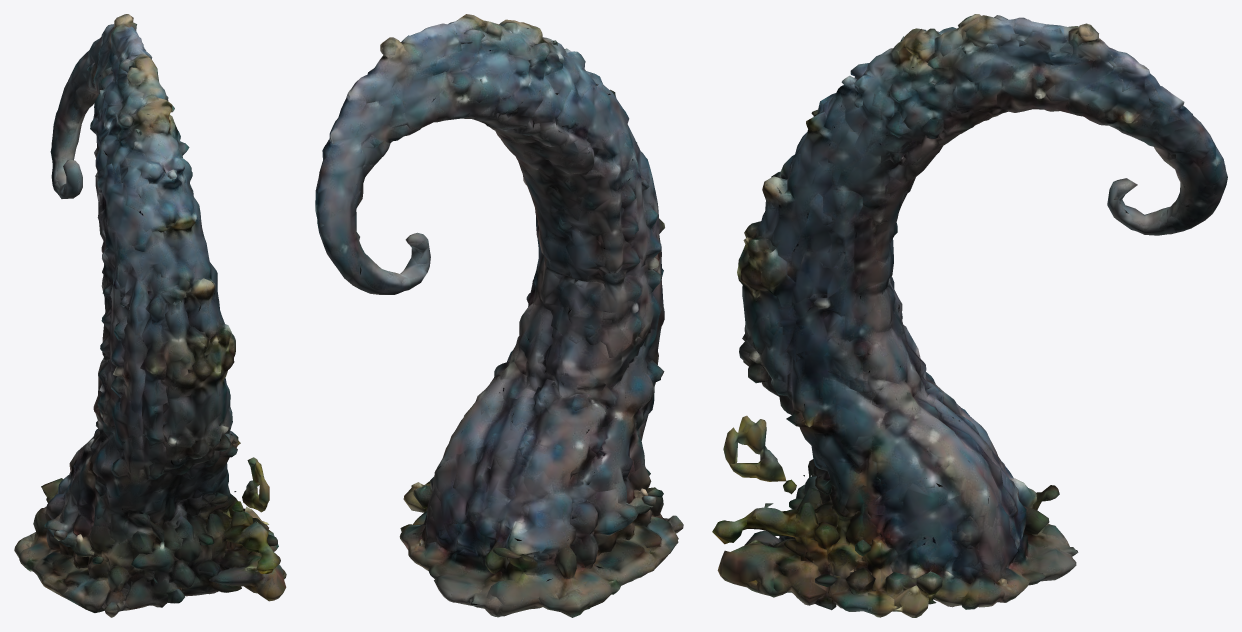
Rendered from leviathan_tentacle.glb.
The picture shows the model from 3 angles, left to right: view 1: azimuth 30°, elevation 25°; view 2: azimuth 150°, elevation 25°; view 3: azimuth 270°, elevation 25°; orthographic projection. The views are drawn at different scales.
Visible parts, largest first — view 1: mesh; view 2: mesh; view 3: mesh.
Boxes of the visible parts, left/top/right/bottom form: mesh: left=14, top=14, right=286, bottom=617; mesh: left=315, top=14, right=683, bottom=617; mesh: left=712, top=14, right=1227, bottom=617.
Size of the model in its own units: 0.4548 by 0.9868 by 0.7882.
1 material, 1 textured.
